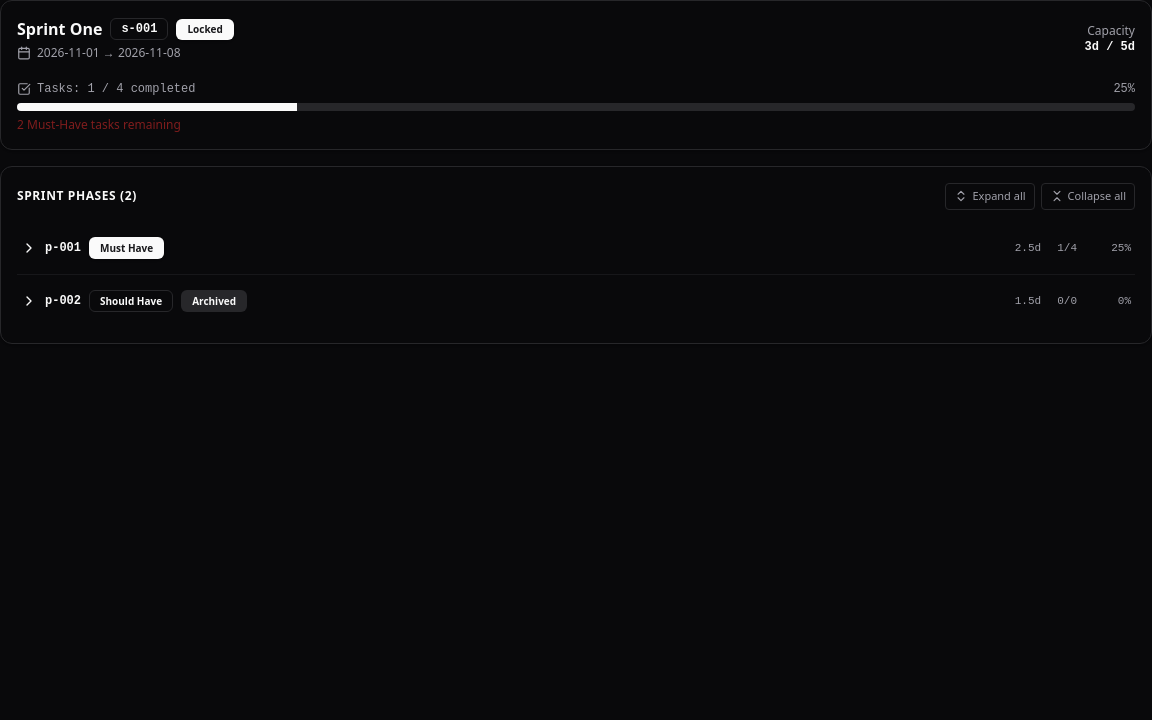
Test: SprintProgressPanel drill-down › starts collapsed, expands on click with aria-expanded, and survives snapshot re-render
Later steps or results of the test are not shown.
Expected: the text "Live task" is not shown
Click the button "p-001 Must Have 2.5d 1/4 25%".
click(63, 248)  # box [17,226,1135,270]
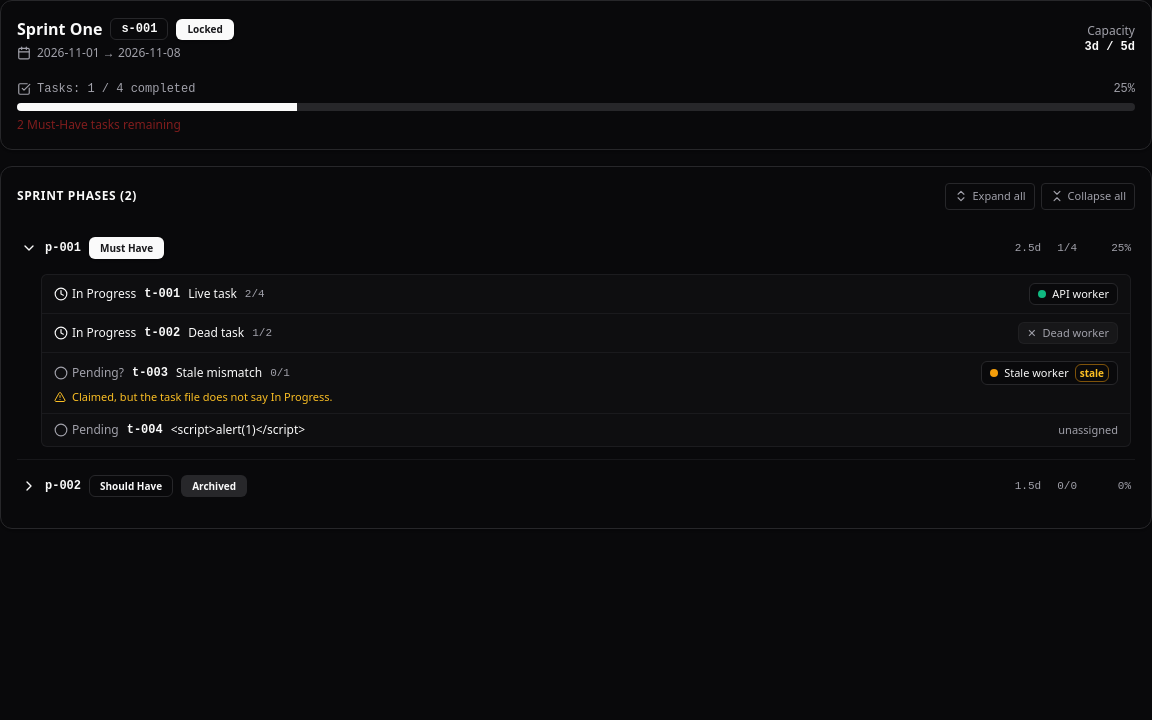
Result: the button "p-001 Must Have 2.5d 1/4 25%" is expanded at [17,226,1135,270]
Result: the text "Live task" is shown at [188,286,237,302]
